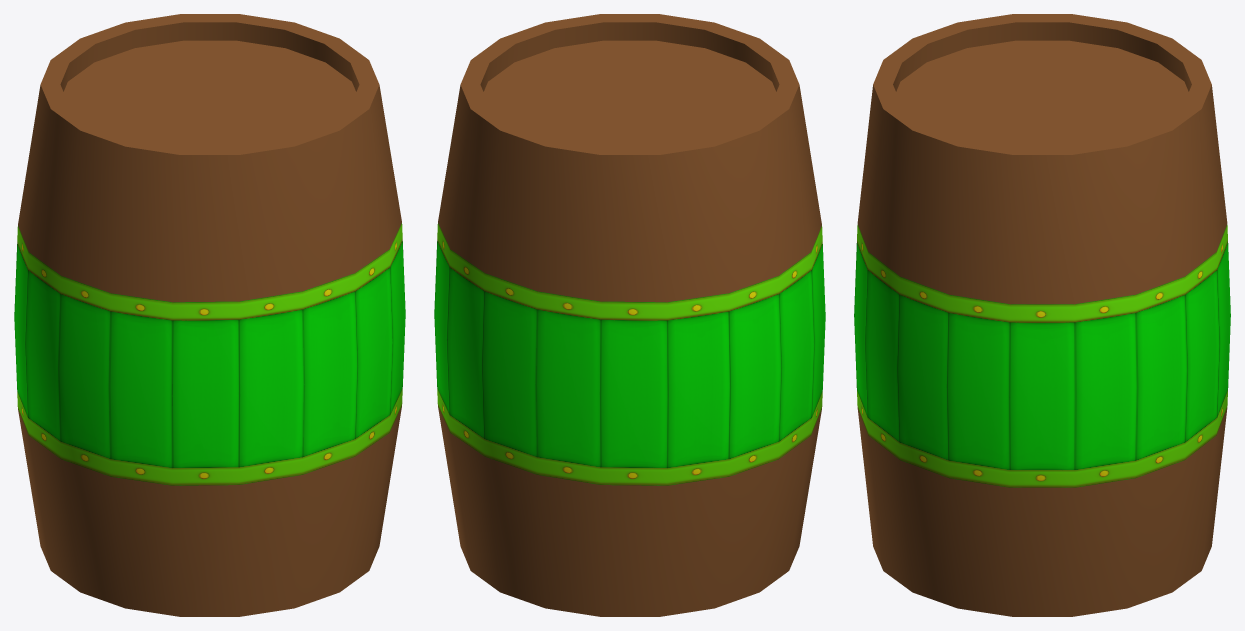
Rendered from Barrel 3.fbx.
3 views of the same model, side by side, from view 1: azimuth 30°, elevation 25°; view 2: azimuth 150°, elevation 25°; view 3: azimuth 270°, elevation 25° (orthographic).
Visible parts, largest first — view 1: Lowpoly_1; view 2: Lowpoly_1; view 3: Lowpoly_1.
Part boxes in pixels (x1=…): Lowpoly_1: x1=14, y1=14, x2=405, y2=616; Lowpoly_1: x1=434, y1=14, x2=825, y2=616; Lowpoly_1: x1=854, y1=14, x2=1230, y2=616.
Bounding box in the file's own units: 6.22 × 8.17 × 6.04.
